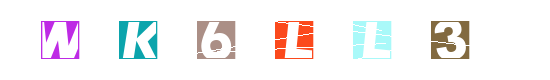3: (308, 0, 388, 80)
6: (235, 0, 315, 80)
K: (96, 0, 176, 80)
L: (253, 0, 333, 80), (295, 0, 375, 80)
W: (20, 0, 100, 80)
